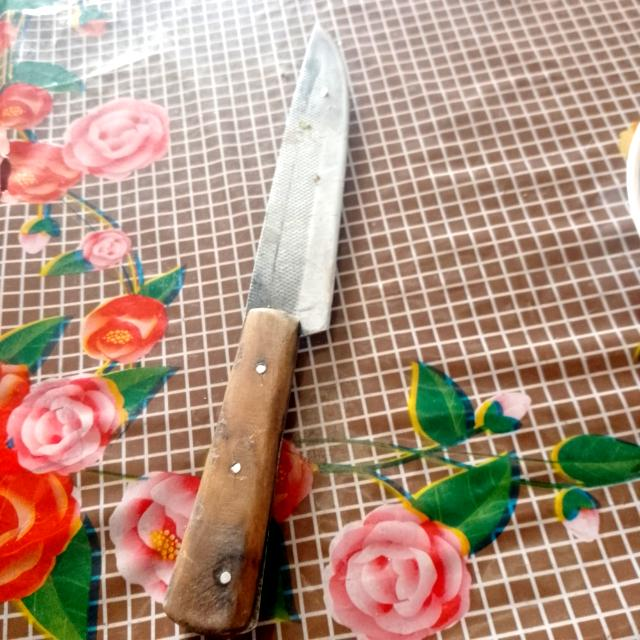Knife: (165, 28, 348, 637)
